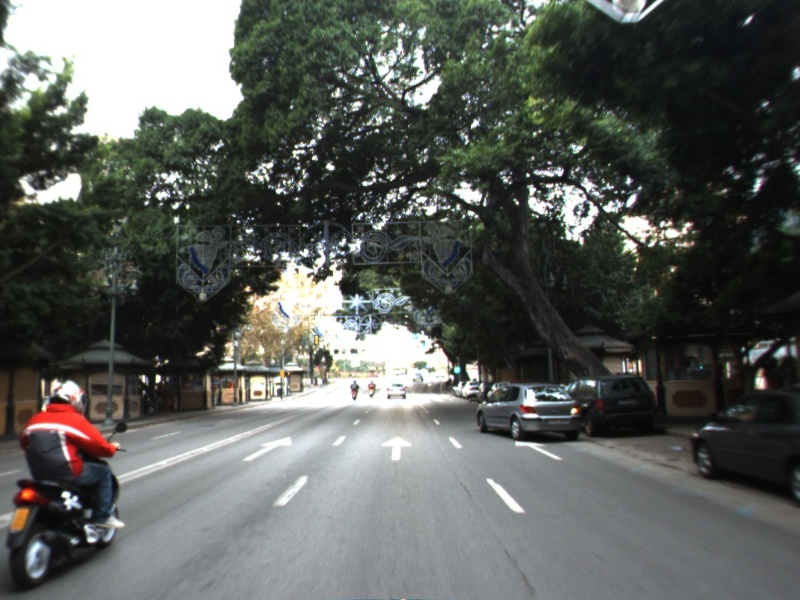STRAIGHT: (242, 435, 294, 462), (513, 438, 565, 462), (379, 435, 414, 462)
